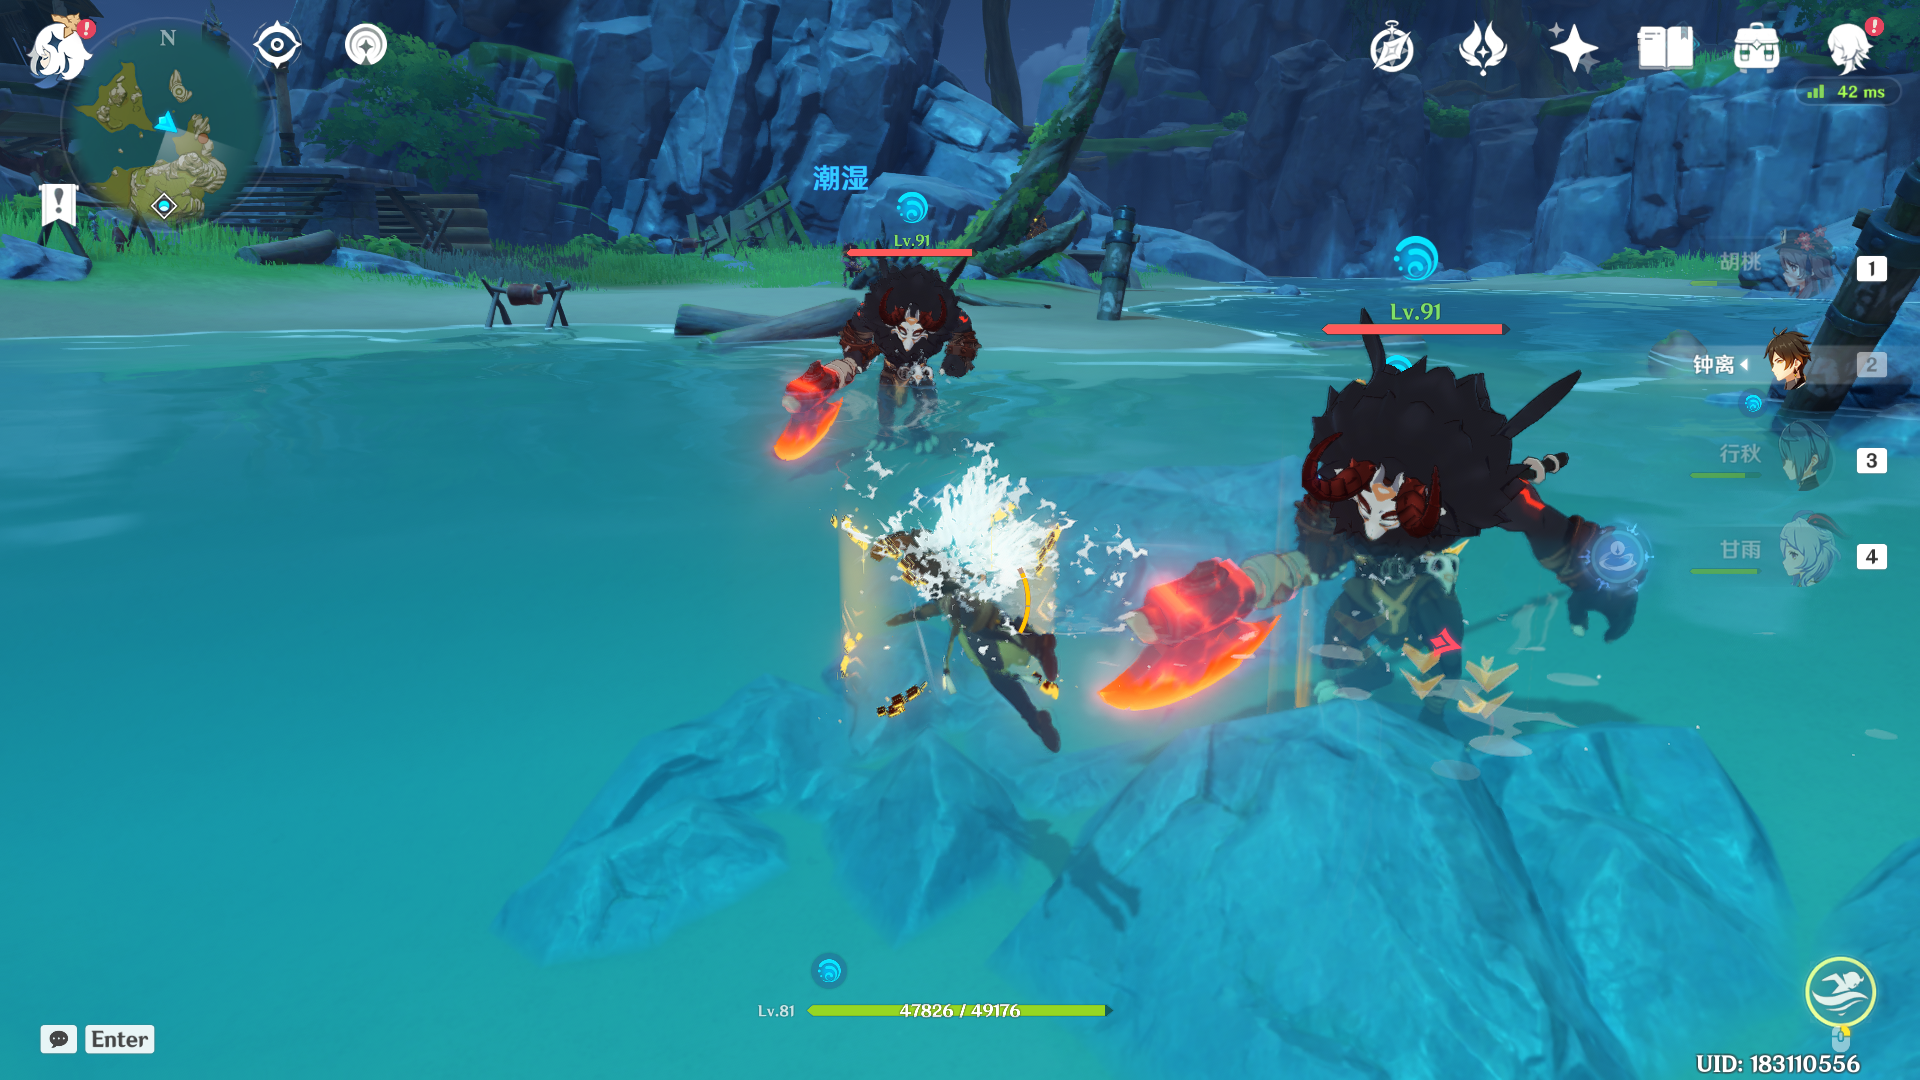bighili: (1129, 266, 1648, 823), (742, 232, 1021, 491)
